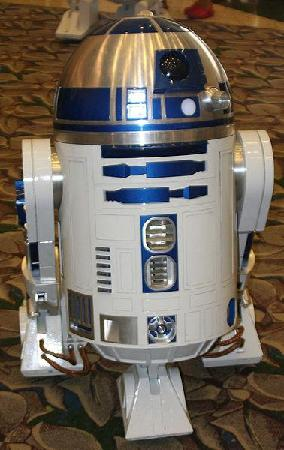r2d2: (14, 9, 274, 442)
